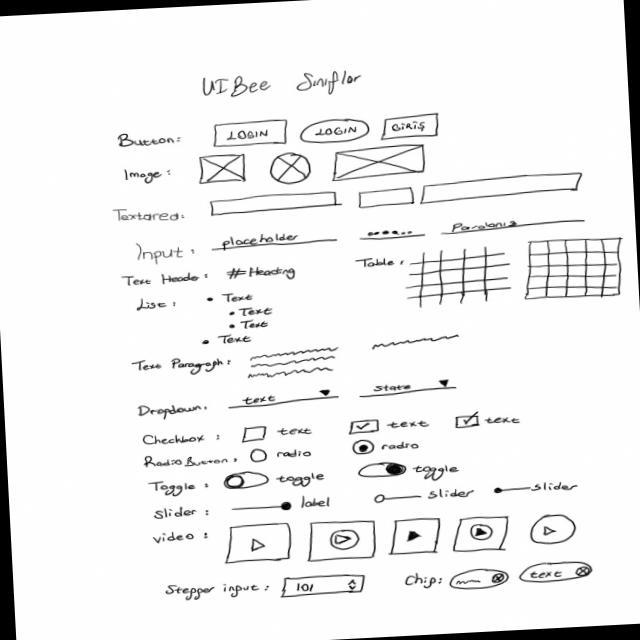button: (210, 118, 290, 149), (298, 116, 371, 144), (379, 112, 441, 141)
checkbox: (346, 416, 432, 436), (238, 423, 316, 444), (452, 408, 521, 431)
image: (329, 142, 428, 182), (198, 152, 248, 185), (268, 151, 312, 186)
input: (419, 171, 585, 206), (210, 190, 338, 217), (439, 214, 586, 236), (210, 228, 340, 252), (356, 186, 416, 210), (357, 226, 428, 241)
label: (202, 67, 362, 101), (164, 579, 270, 603), (130, 354, 232, 378), (142, 450, 238, 470), (134, 401, 210, 422), (136, 240, 197, 266), (119, 270, 209, 287), (111, 204, 186, 224), (226, 264, 296, 284), (140, 431, 226, 447), (116, 130, 183, 150), (147, 478, 210, 498), (152, 504, 211, 522), (122, 166, 173, 186), (152, 528, 210, 545), (411, 462, 460, 482), (274, 471, 326, 488), (133, 296, 179, 313), (402, 571, 443, 590), (353, 256, 408, 270), (428, 486, 476, 501), (532, 479, 580, 494), (299, 494, 333, 510), (238, 305, 276, 318), (220, 291, 256, 303), (218, 333, 254, 345), (238, 318, 270, 331)
number-input: (278, 571, 368, 599)
radio: (249, 444, 313, 464), (352, 437, 418, 456)
select: (226, 388, 341, 410), (357, 378, 458, 400)
slider: (230, 500, 292, 514), (373, 491, 423, 504), (491, 484, 532, 494)
table: (520, 234, 626, 302), (403, 245, 513, 308)
text: (372, 333, 460, 350)
textbox: (245, 346, 342, 381)
toggle: (222, 470, 270, 490), (357, 461, 407, 479)
